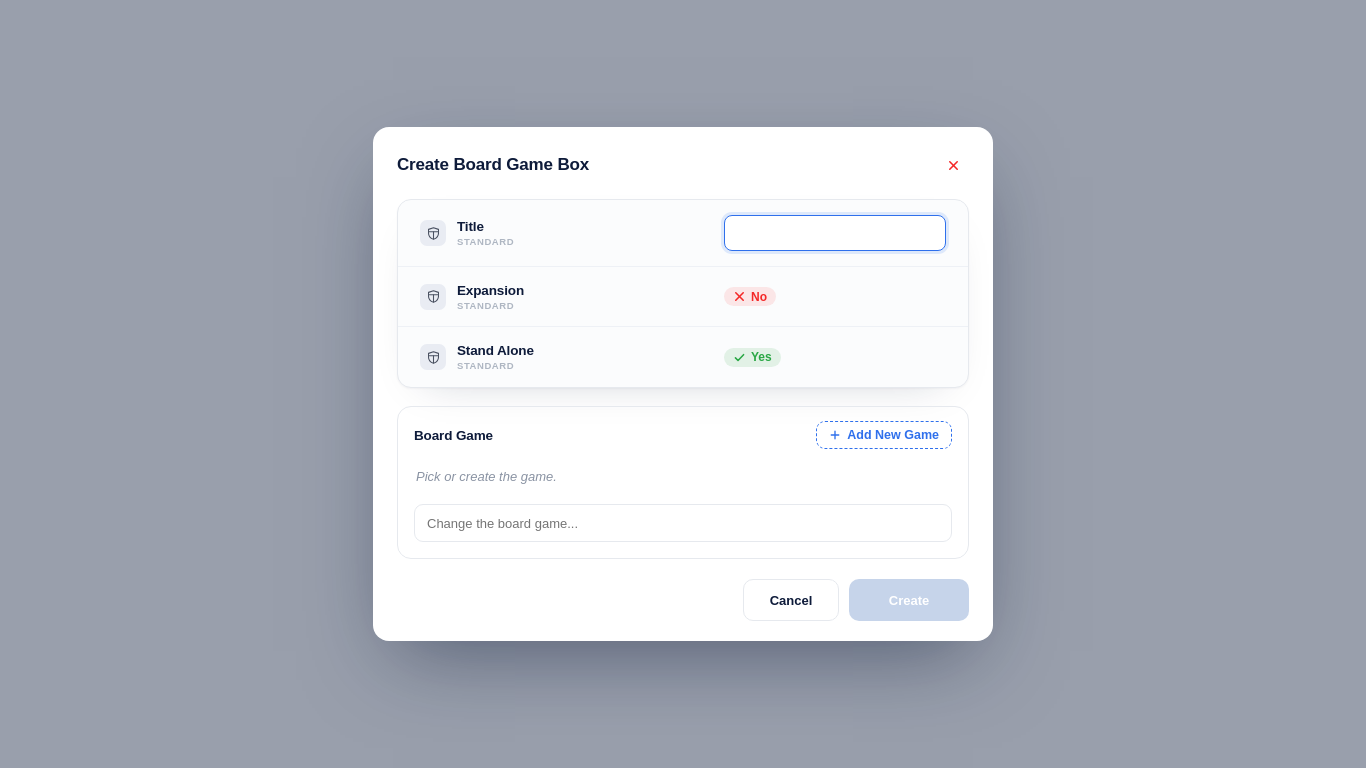
Test: BoardGameBoxCreateModal › picks an existing game through the picker, with its shelf hint
This screenshot has width=1366, height=768.
Type "catan" into the search field named "Pick an existing game".
click(683, 523); type("catan")  # box left=414, top=504, right=952, bottom=542
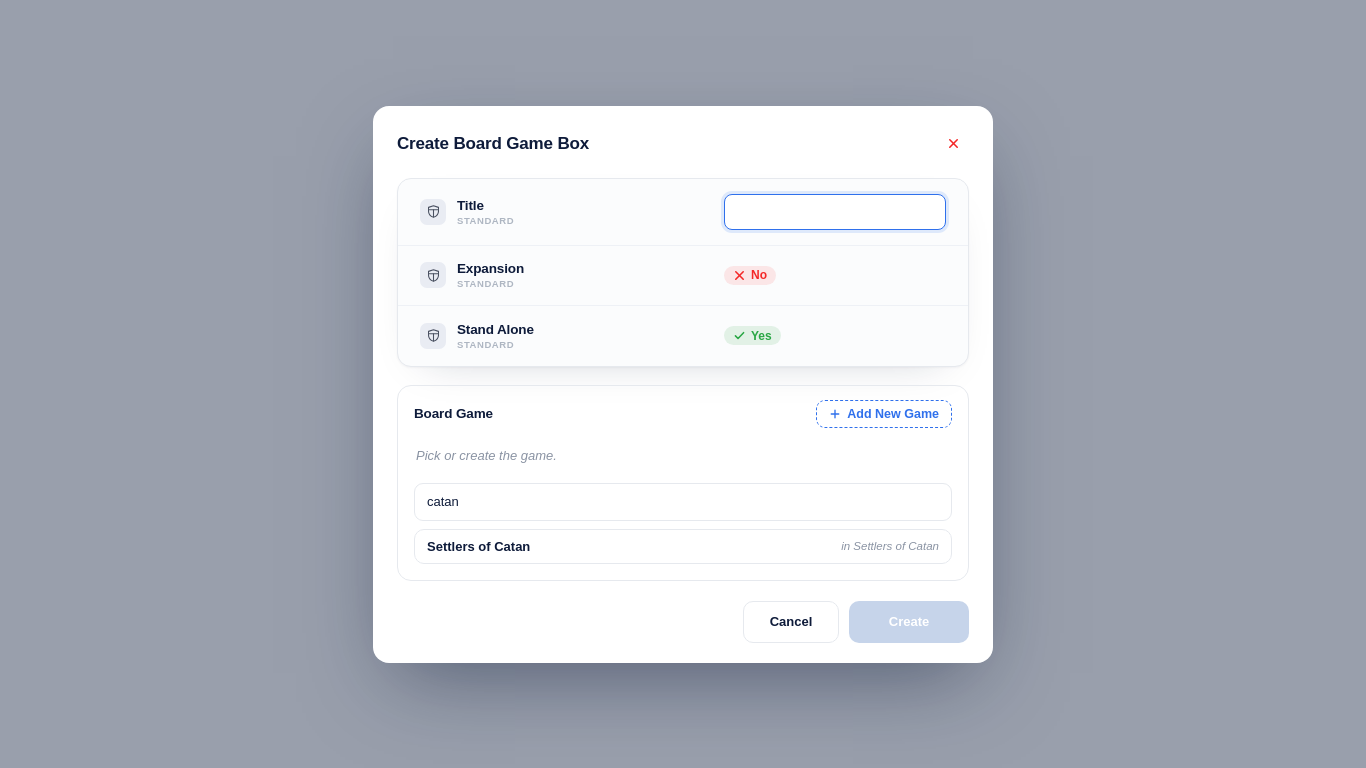
Result: the text "in Settlers of Catan" is shown at left=841, top=540, right=939, bottom=552
Click the button "Settlers of Catan in Settlers of Catan".
click(479, 546)  # box left=415, top=530, right=951, bottom=562
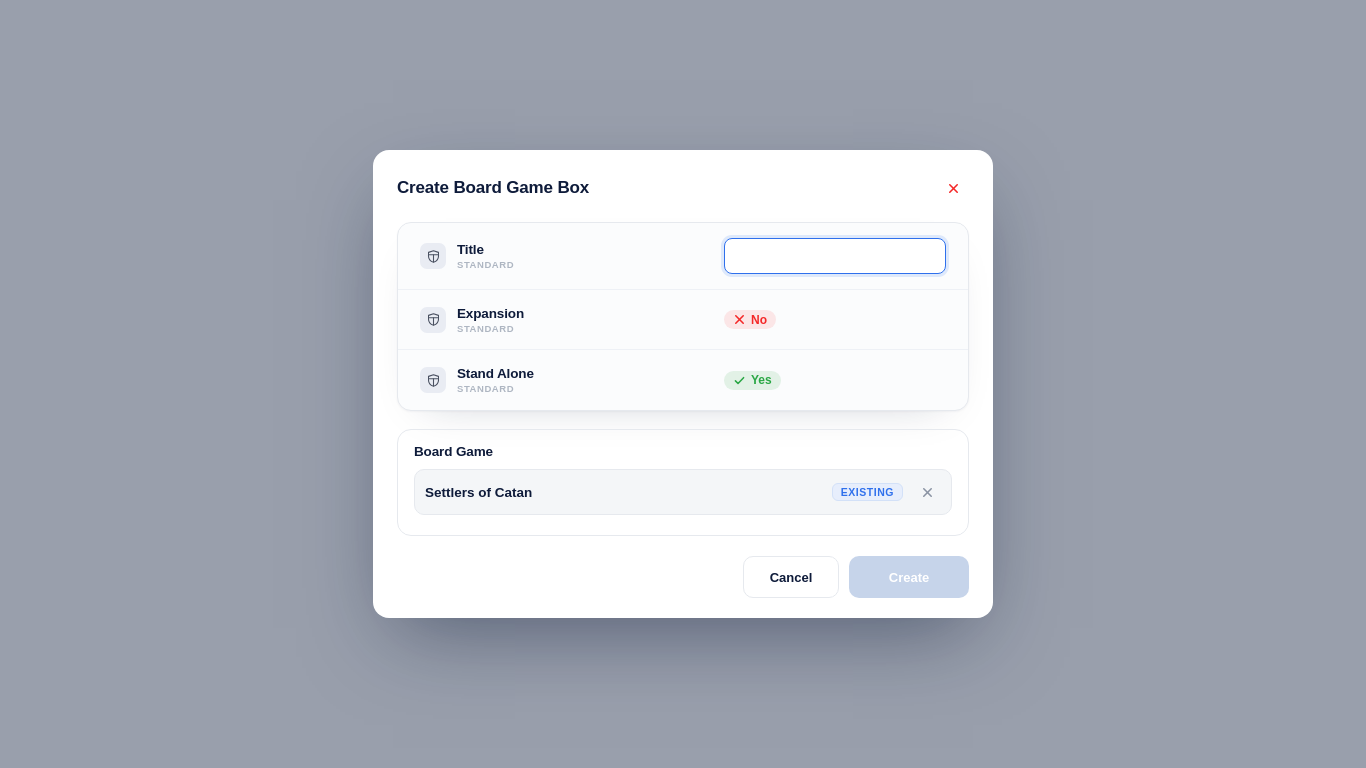
Result: the list item shows "Settlers of Catan" at left=425, top=484, right=532, bottom=500
Result: the list item shows "Existing" at left=841, top=486, right=894, bottom=498
